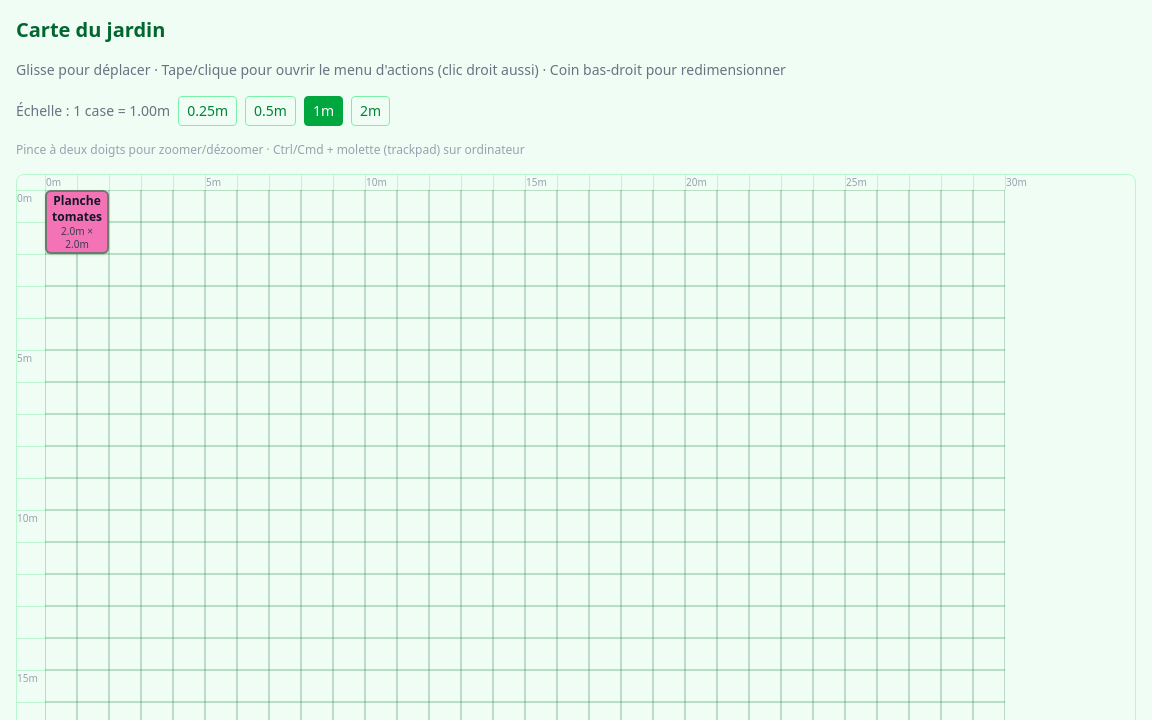
Test case: GardenMapPage › le clic droit sur une tuile ouvre le menu et bloque le menu natif
The width and height of the screenshot is (1152, 720).
Step 1. Right-click the element showing "Planche tomates 2.0m × 2.0m" → x=77, y=222, box [45, 190, 109, 254]
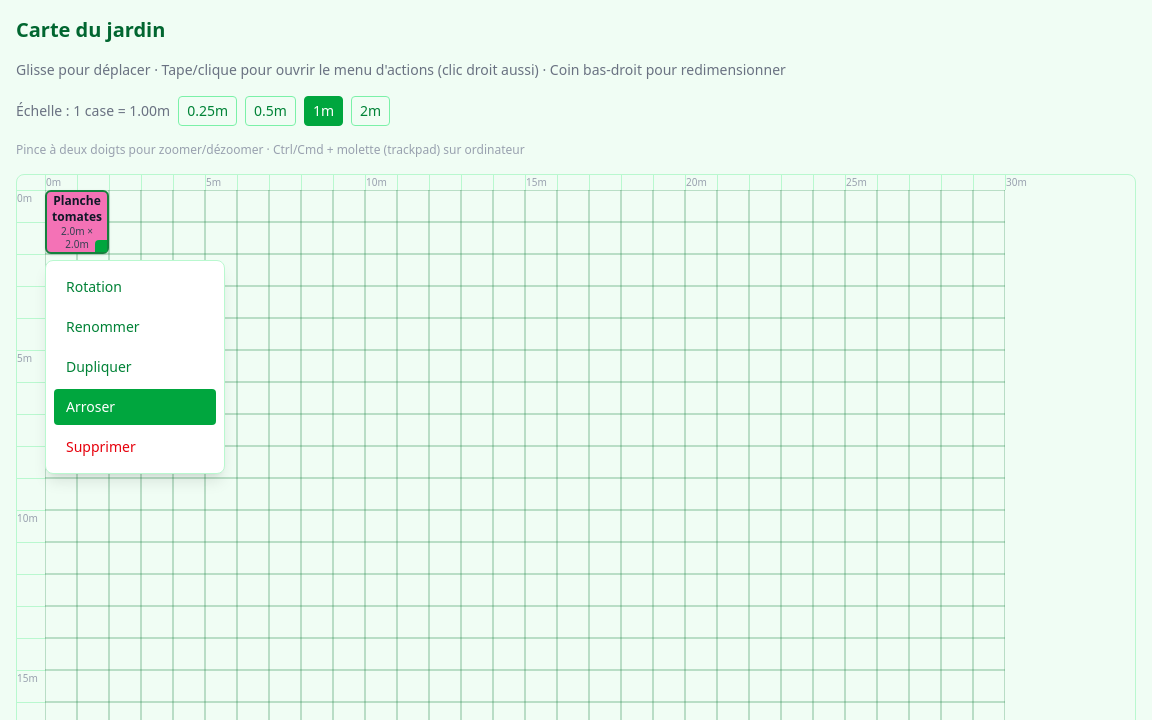
Expected: the element with test id "parcel-context-menu" is shown, [45, 260, 225, 474]
